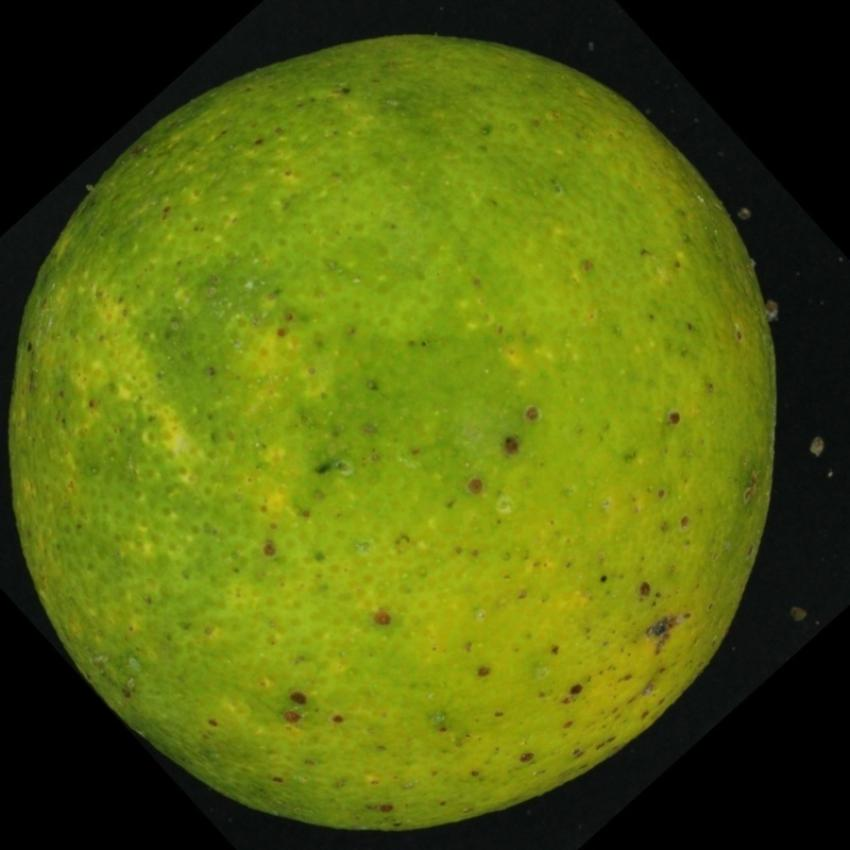Mal estado: (6, 2, 800, 836)
